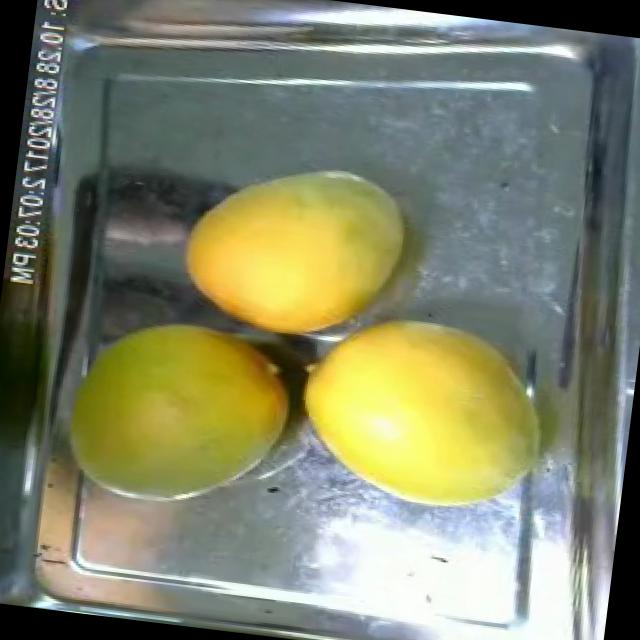fruit: (278, 292, 570, 533), (53, 294, 310, 526), (166, 138, 426, 358)
